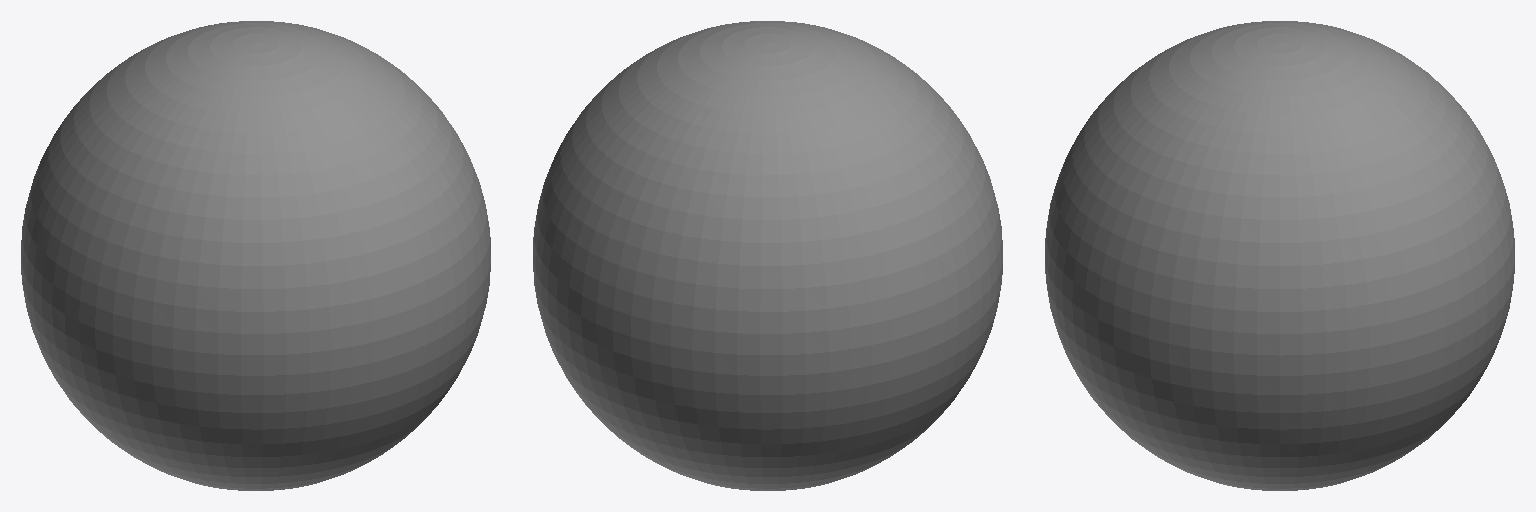
File: ball.obj
3 views of the same model, side by side, from view 1: azimuth 30°, elevation 25°; view 2: azimuth 150°, elevation 25°; view 3: azimuth 270°, elevation 25° (orthographic).
Parts seen in each view (by area): view 1: Sphere001; view 2: Sphere001; view 3: Sphere001.
Part boxes in pixels (x1,y1,x2,y2): Sphere001: (21, 21, 490, 490); Sphere001: (533, 21, 1002, 490); Sphere001: (1045, 21, 1514, 490).
Size of the model in its own units: 2 by 2 by 2.